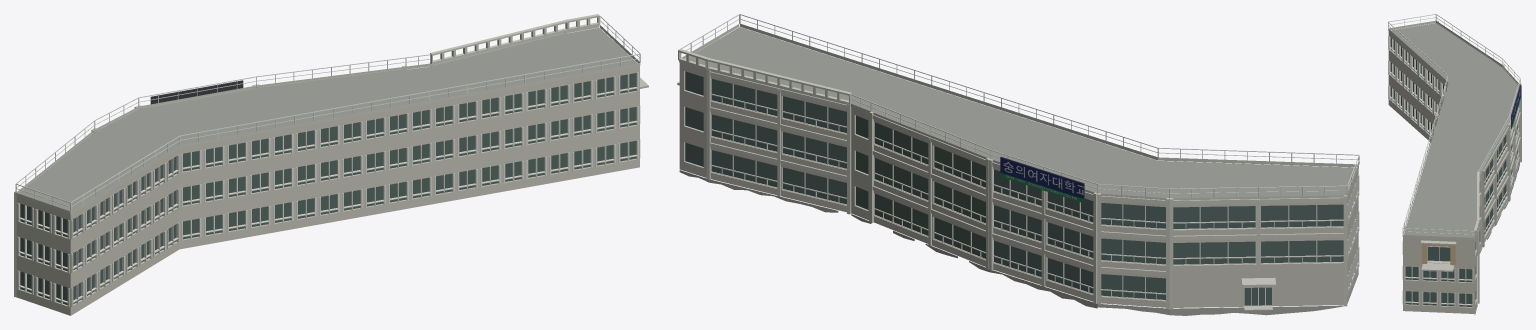
The picture shows the model from 3 angles, left to right: view 1: azimuth 30°, elevation 25°; view 2: azimuth 150°, elevation 25°; view 3: azimuth 270°, elevation 25°; orthographic projection. The views are drawn at different scales.
Parts seen in each view (by area): view 1: lecture_c__wall, lecture_c__roof, lecture_c__frame, lecture_c__glass, lecture_c__trim, finish3_c__school_sign; view 2: lecture_c__glass, lecture_c__roof, lecture_c__wall, lecture_c__trim, lecture_c__frame, foundation__lecture_c, finish3_c__school_sign_face; view 3: lecture_c__roof, lecture_c__wall, lecture_c__frame, lecture_c__glass, lecture_c__trim, lecture_c__entryStone, lecture_c__upperThreshold, foundation__lecture_c, finish3_c__school_sign_face.
Boxes of the visible parts, x1,y1,x2,y2 form: lecture_c__wall: (16,66,639,315); lecture_c__roof: (19,28,636,214); lecture_c__frame: (15,16,640,307); lecture_c__glass: (20,73,636,305); lecture_c__trim: (14,14,640,297); finish3_c__school_sign: (150,80,243,104); lecture_c__glass: (685,71,1343,305); lecture_c__roof: (691,27,1357,198); lecture_c__wall: (679,63,1358,307); lecture_c__trim: (678,23,1358,309); lecture_c__frame: (680,14,1359,306); foundation__lecture_c: (679,170,1343,315); finish3_c__school_sign_face: (1000,157,1083,198); lecture_c__roof: (1390,23,1519,238); lecture_c__wall: (1388,31,1519,313); lecture_c__frame: (1388,14,1520,307); lecture_c__glass: (1390,38,1517,306); lecture_c__trim: (1388,20,1521,303); lecture_c__entryStone: (1421,244,1455,265); lecture_c__upperThreshold: (1421,263,1454,272); foundation__lecture_c: (1474,162,1519,315); finish3_c__school_sign_face: (1512,85,1520,125).
Bounding box in the file's own units: 69.71 × 13.04 × 17.67.
13 materials, 2 textured.
